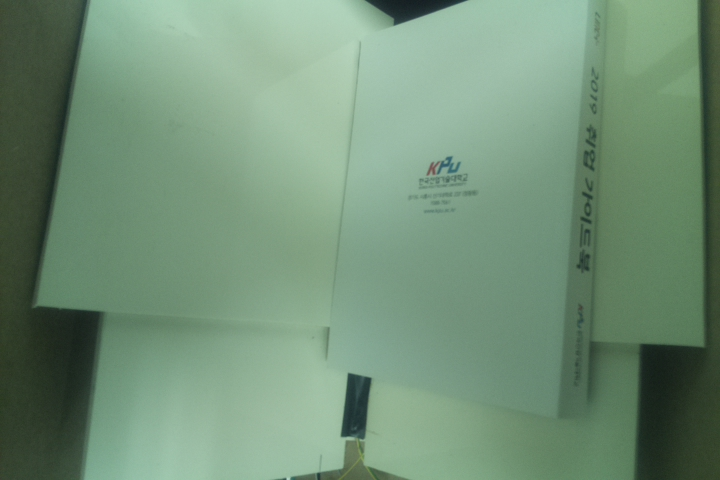book: (327, 1, 614, 423)
